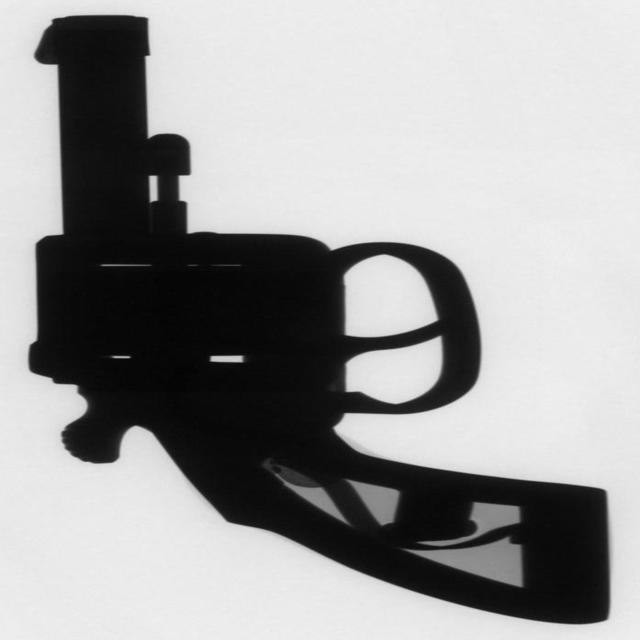gun: (34, 9, 617, 631)
